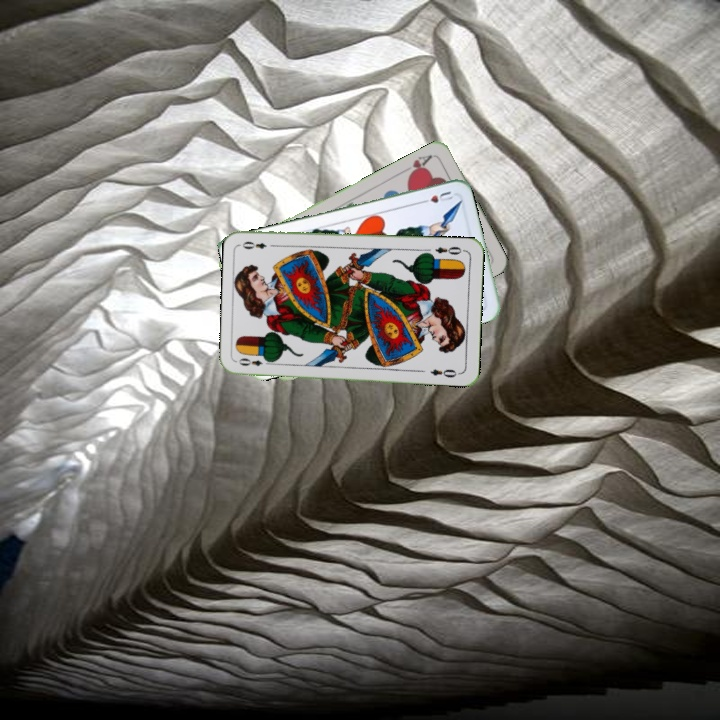EO: (234, 354, 274, 369), (431, 242, 467, 257)
HA: (404, 151, 435, 180)
HU: (416, 187, 455, 206)
